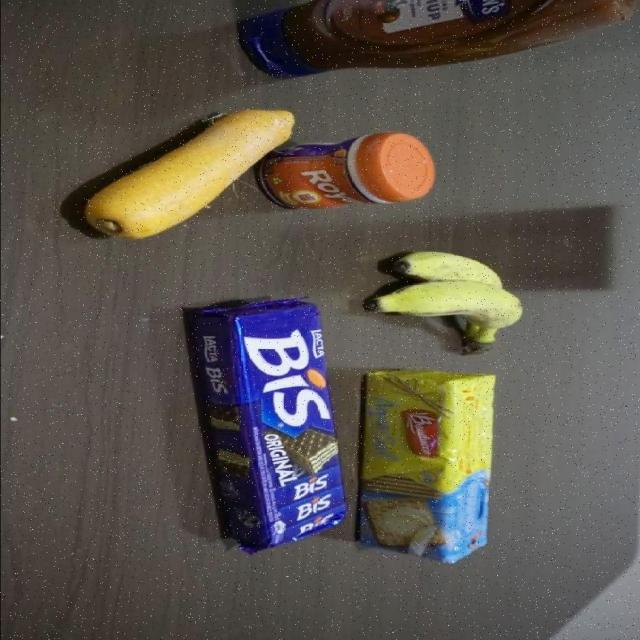Banana: (364, 245, 523, 356)
Carrot: (77, 108, 297, 240)
Cracker: (354, 367, 496, 566)
Ketchup: (226, 0, 639, 82)
Yeast: (256, 132, 435, 209)
